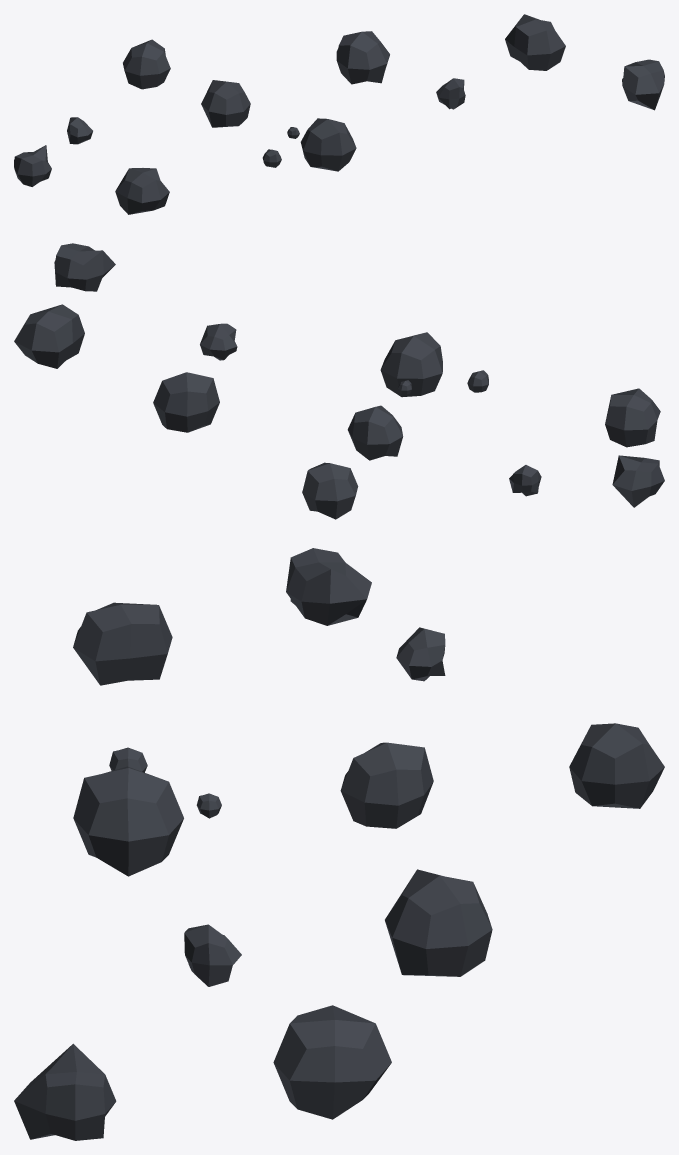
The model's file is cailloux_petit_01.fbx.
3 views of the same model, one above another, from view 1: azimuth 30°, elevation 25°; view 2: azimuth 150°, elevation 25°; view 3: azimuth 270°, elevation 25° (orthographic). The views are drawn at different scales.
Parts seen in each view (by area): view 1: Cube; view 2: Cube; view 3: Cube.
Part boxes in pixels (<box>): Cube: <box>14,14,664,214</box>; Cube: <box>14,243,664,519</box>; Cube: <box>14,548,664,1140</box>.
Size of the model in its own units: 507 by 39.74 by 253.
